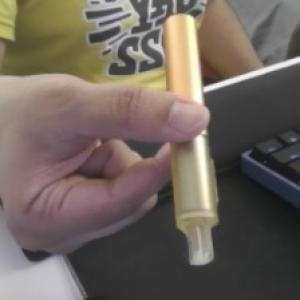Golden-E-Ciggirate: (159, 15, 220, 266)
